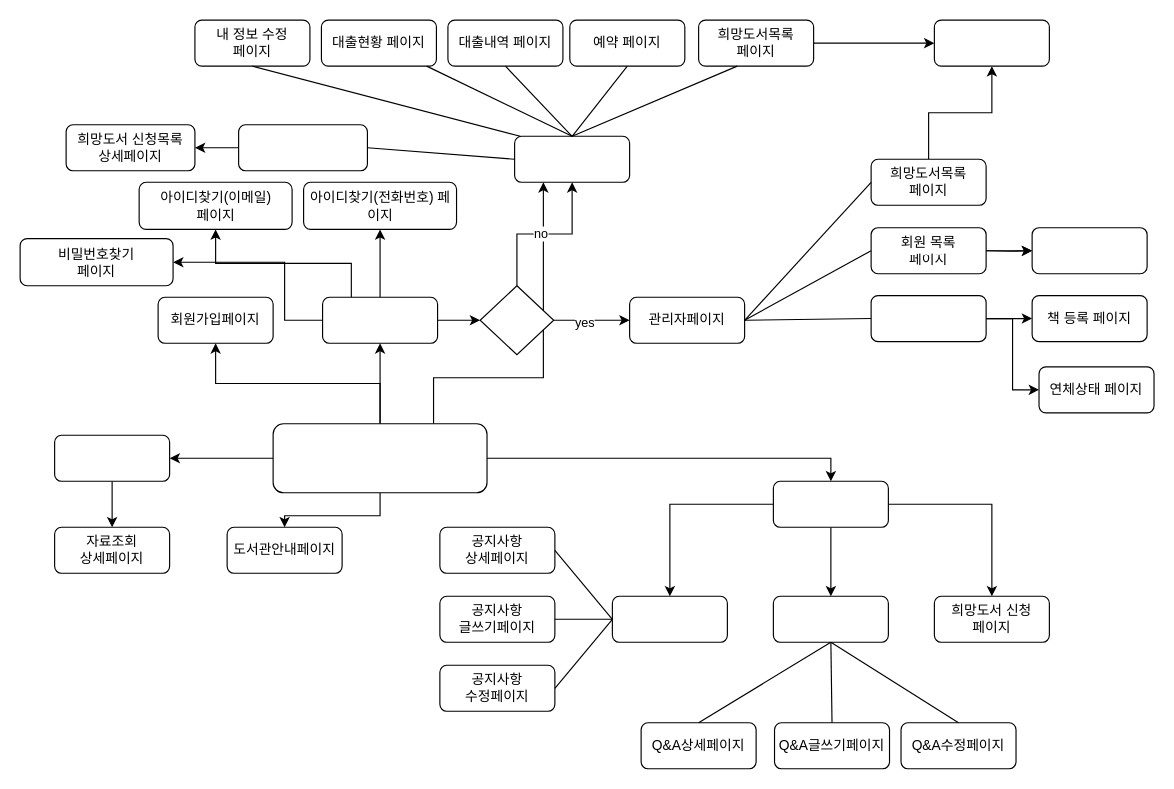
The diagram is 1174 pixels wide and 789 high, and some of its shapes have lost their labels. Here are the shapes that lost their labels. From the top down, the centre of each, then its label:
At (991,42): "희망도서 상세 페이지".
At (302,147): "희망도서 신청목록 페이지".
At (571,158): "마이페이지".
At (1089,250): "회원정보수정 페이지".
At (379,319): "로그인페이지".
At (516,320): "관리자 인가?".
At (928,318): "책 재고현황 페이지".
At (111,457): "자료검색 상세페이지".
At (379,458): "메인페이지(홈)".
At (830,503): "정보광장 페이지".
At (669,618): "공지사항목록 페이지".
At (830,618): "Q&A목록 페이지".
